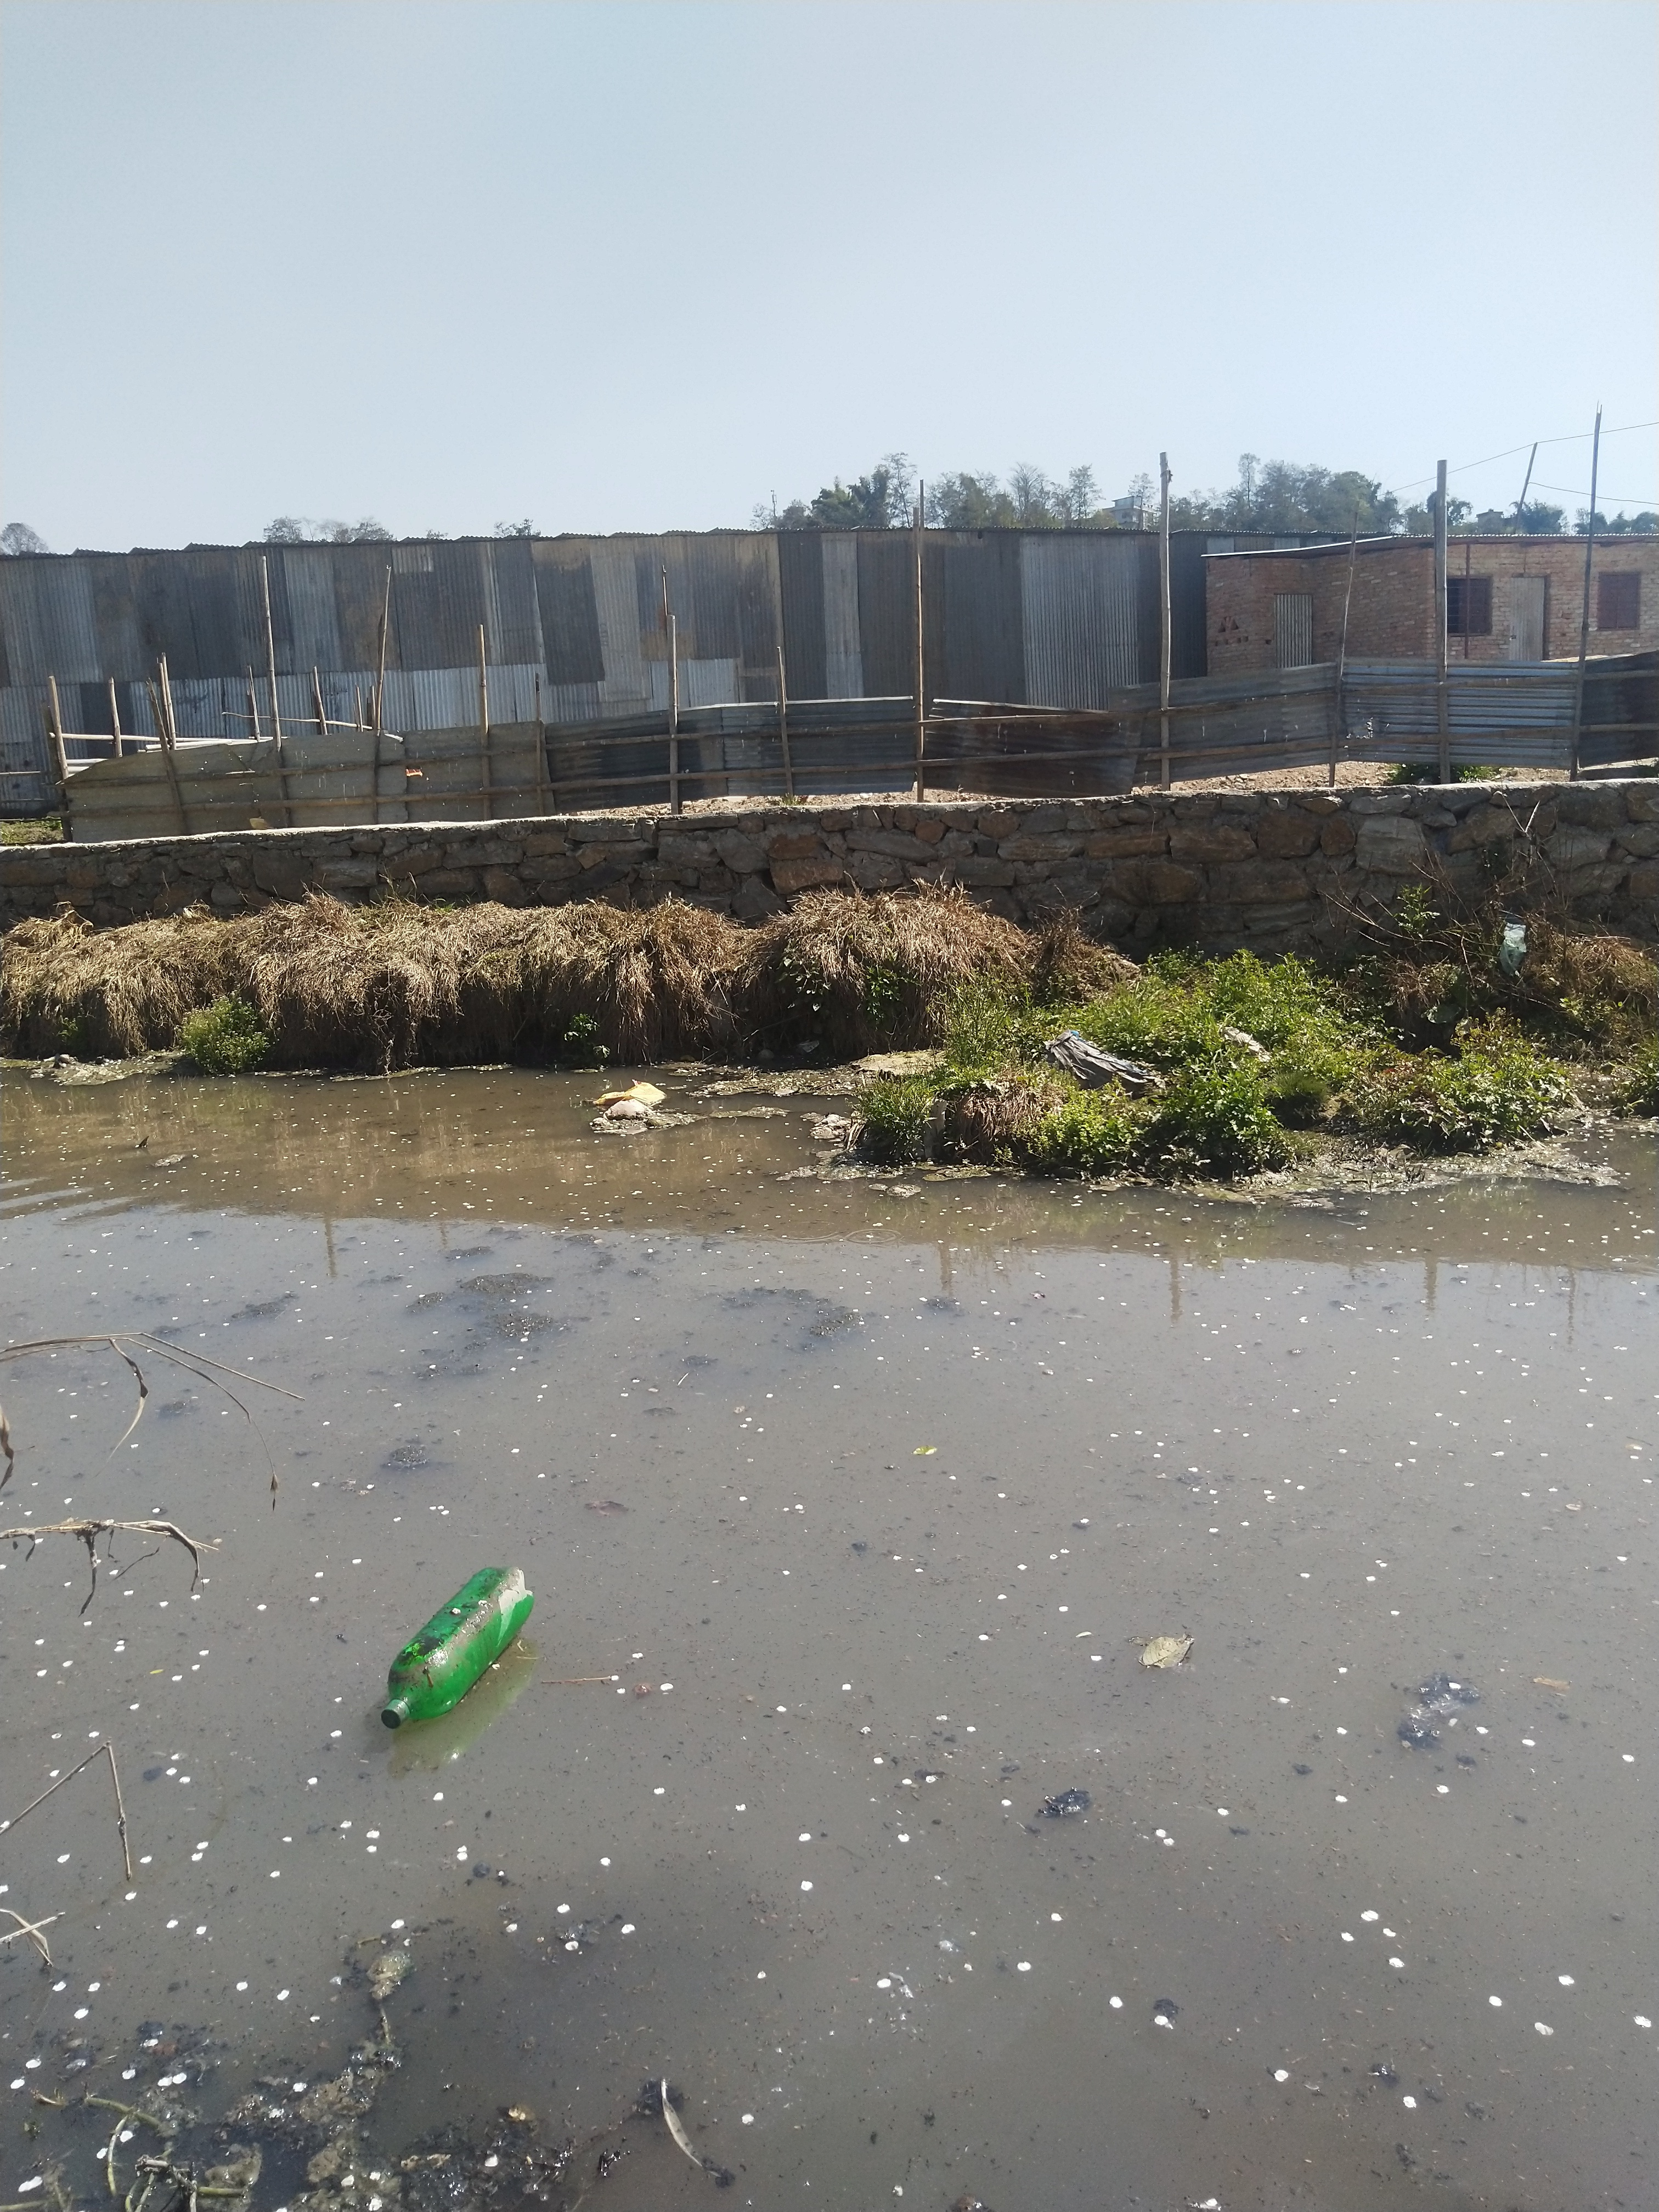Plastic Bottle: (382, 1568, 535, 1730)
